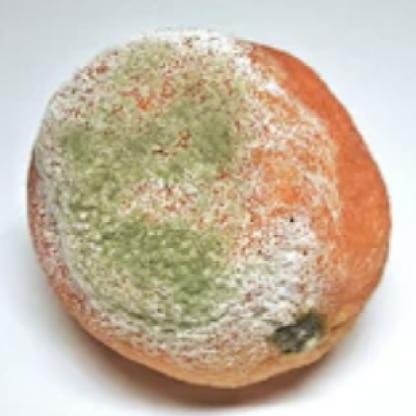rotten: (29, 32, 393, 393)
